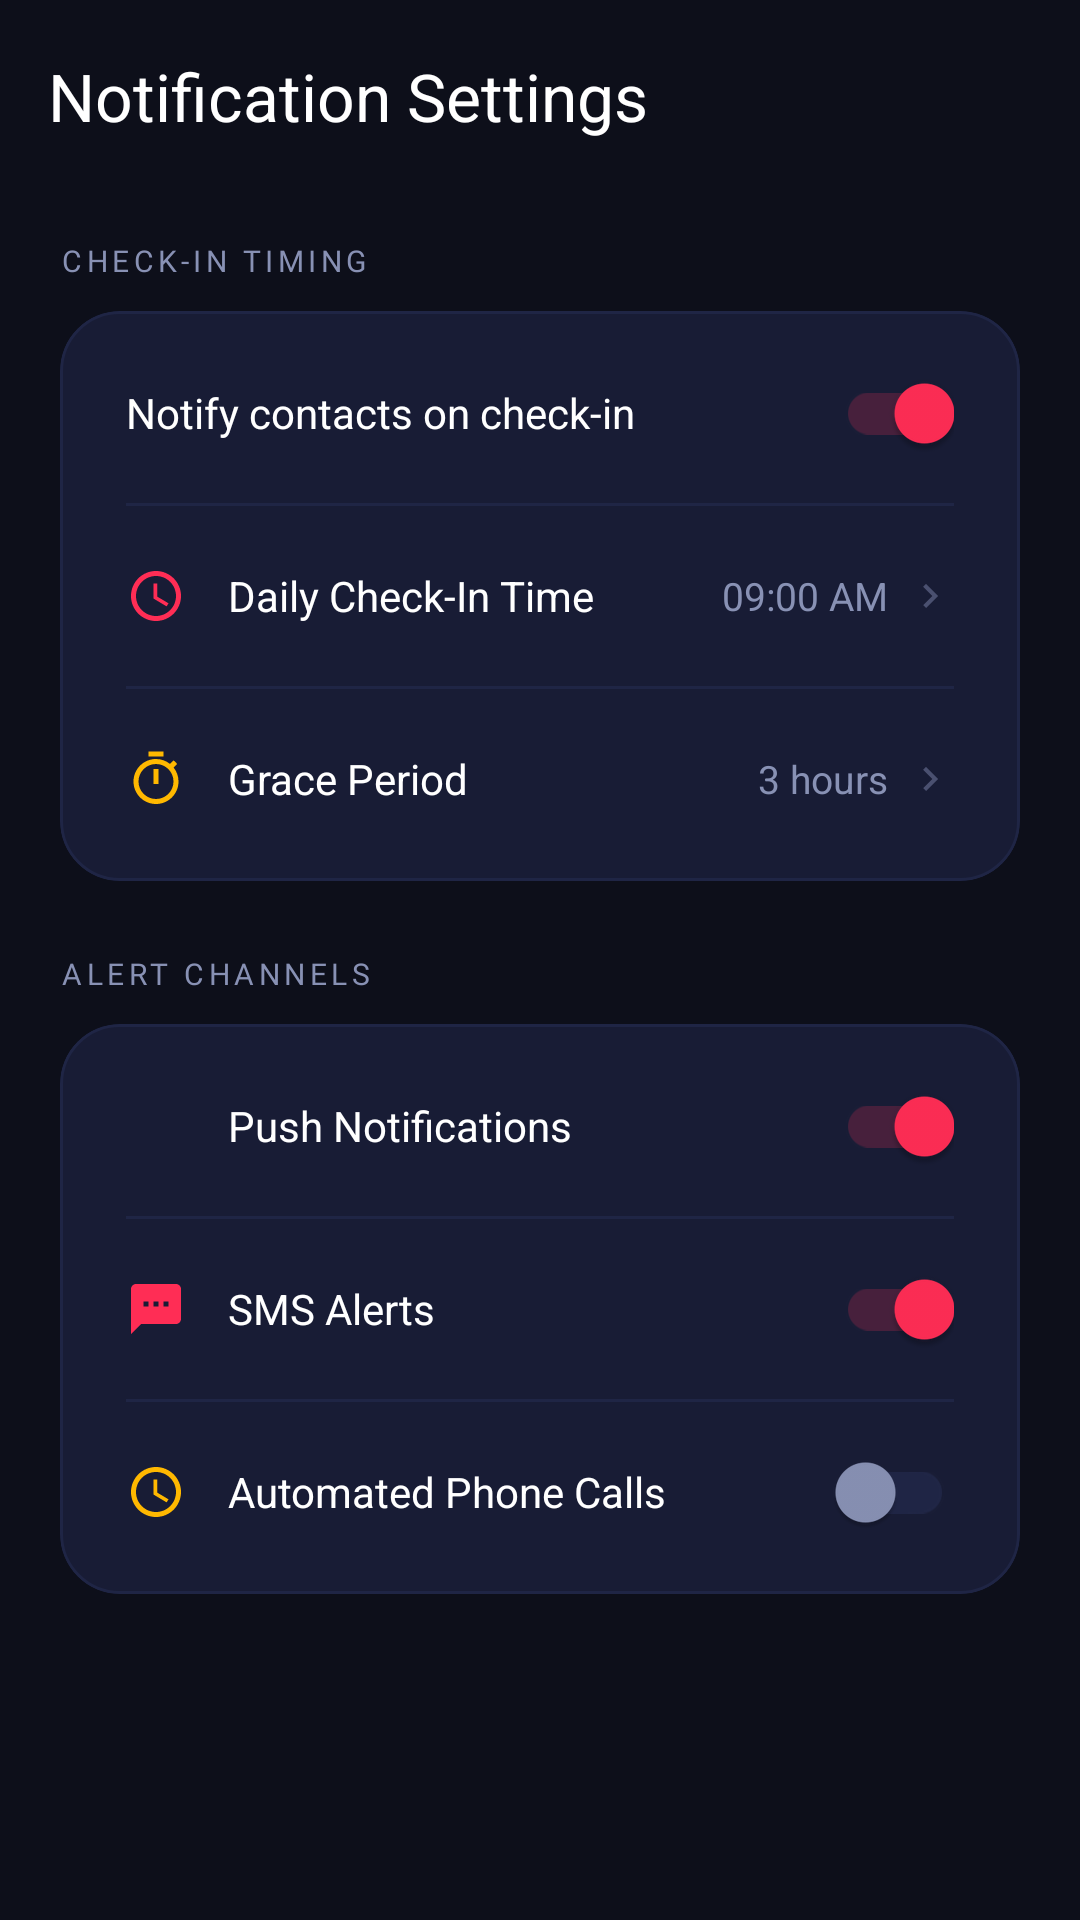

Icon bounding boxes for this 1080*1920 phone screenshot, format (x1=x1, y1=y1, x2=x2, y2=y2):
chevron right: (x1=923, y1=584, x2=938, y2=608), (x1=923, y1=767, x2=938, y2=791)
schedule: (x1=131, y1=571, x2=181, y2=621), (x1=131, y1=1467, x2=181, y2=1517)
sms verify: (x1=131, y1=1284, x2=181, y2=1334)
timer: (x1=133, y1=751, x2=179, y2=804)
